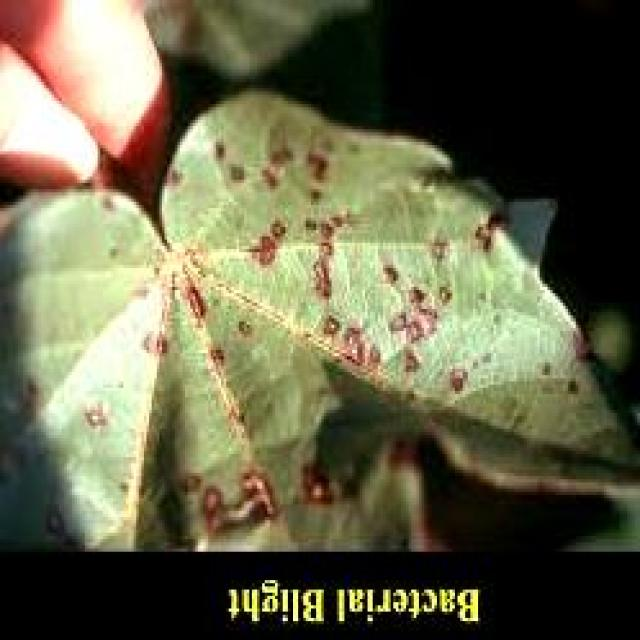Bacterial Blight: (111, 222, 428, 523)
